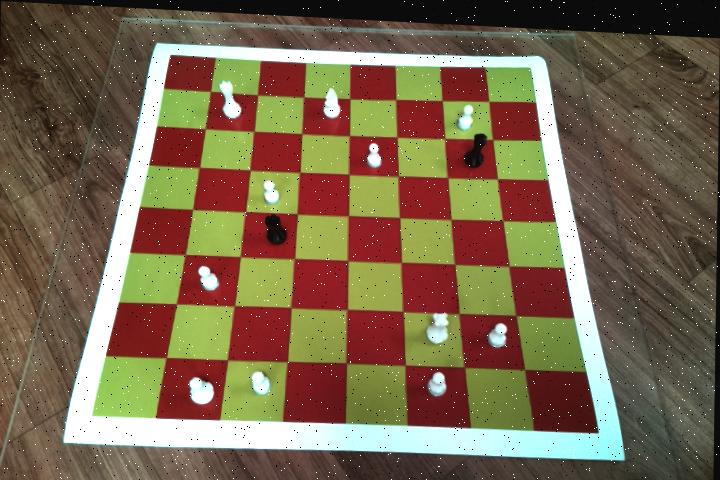chessboard-detect: (91, 51, 599, 427)
